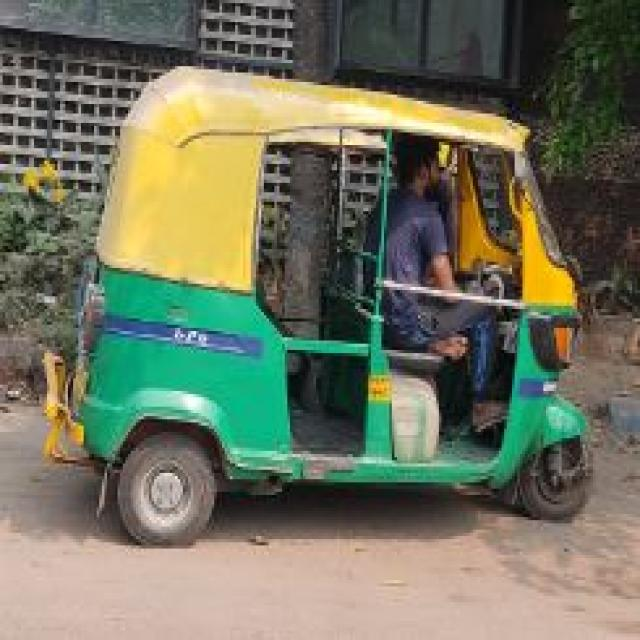autorickshaw: (44, 60, 601, 548)
